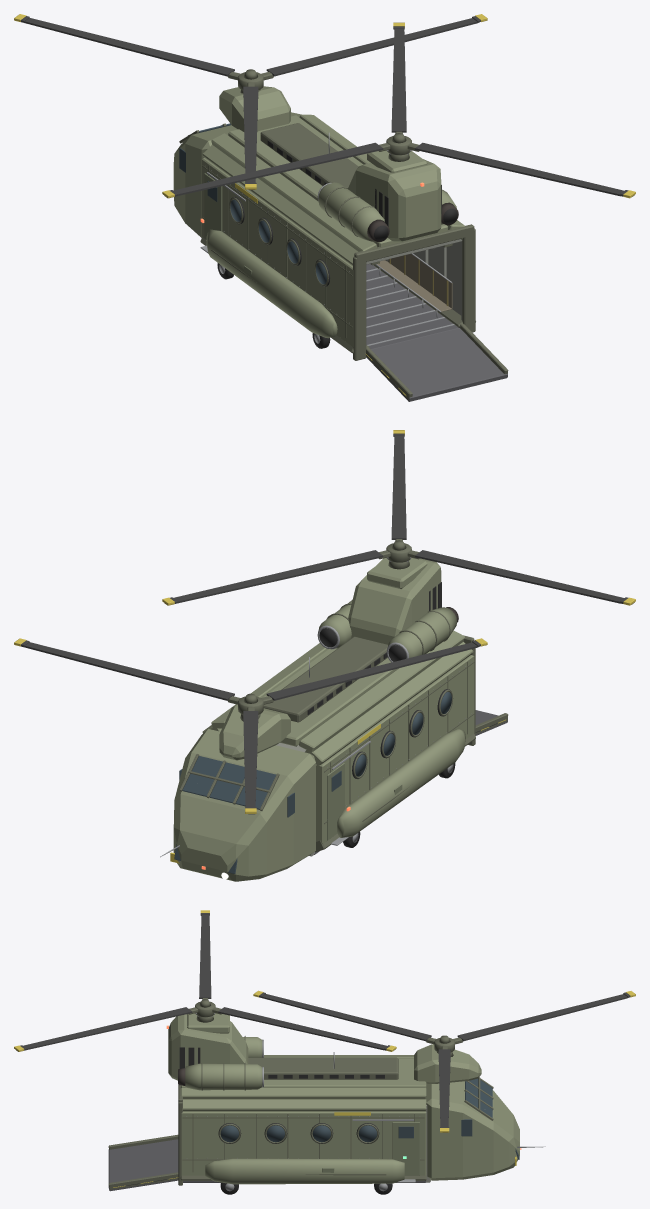
File: heli.glb
The picture shows the model from 3 angles, top to bottom: view 1: azimuth 30°, elevation 25°; view 2: azimuth 150°, elevation 25°; view 3: azimuth 270°, elevation 25°; orthographic projection. The views are drawn at different scales.
Visible parts, largest first — view 1: Cap, RampMesh, RotorR, RotorF; view 2: Cap, RotorR, RotorF; view 3: Cap, RotorR, RotorF, RampMesh.
Part boxes in pixels (x1,y1,x2,y2): Cap: (173, 86, 475, 360); RampMesh: (366, 323, 508, 401); RotorR: (162, 22, 635, 198); RotorF: (14, 14, 487, 189); Cap: (160, 558, 475, 881); RotorR: (162, 430, 635, 605); RotorF: (14, 638, 487, 814); Cap: (166, 1013, 545, 1194); RotorR: (14, 910, 396, 1051); RotorF: (253, 990, 635, 1132); RampMesh: (108, 1134, 178, 1191).
Bounding box in the file's own units: 14.22 × 6.15 × 20.26.
